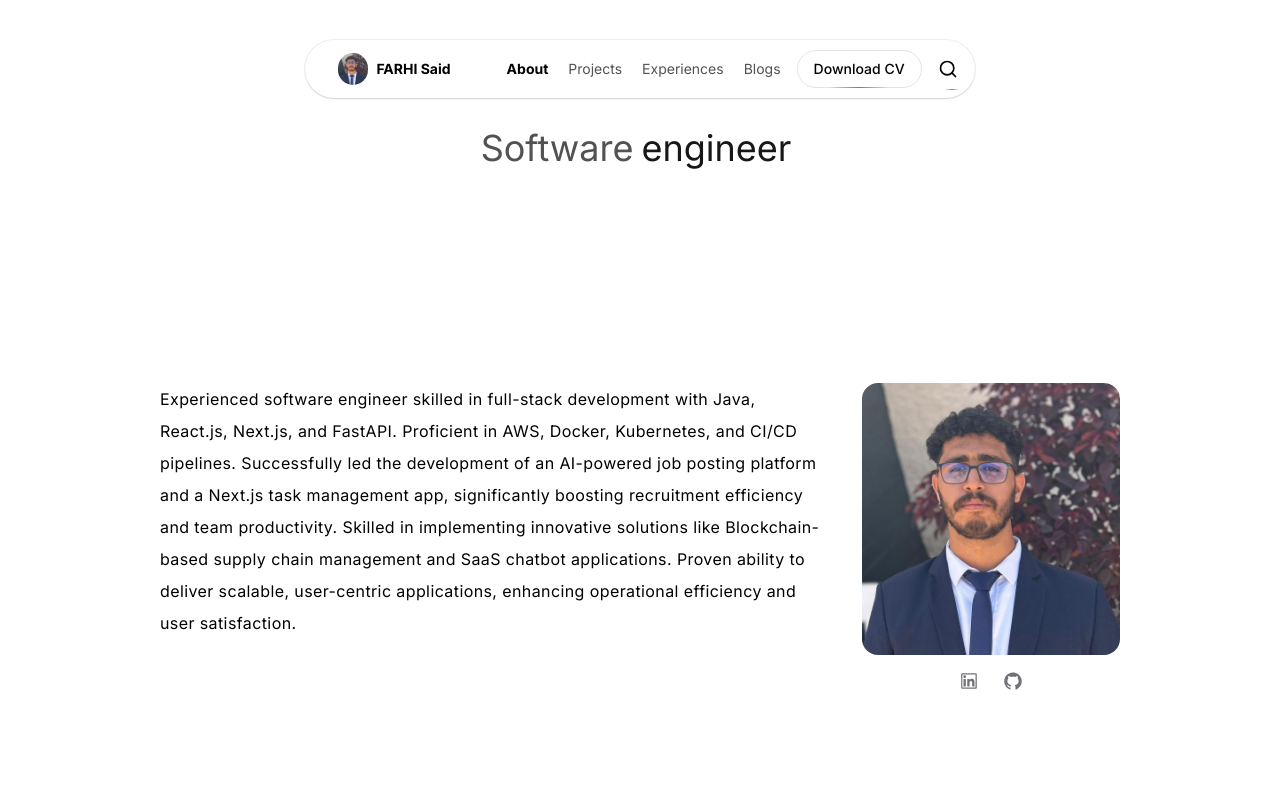
Scenario: FloatingNav Component › should navigate to the Projects page when clicking on the Projects link
This screenshot has width=1280, height=800.
Click the link "Projects" at (593,69), box [564, 59, 622, 79]
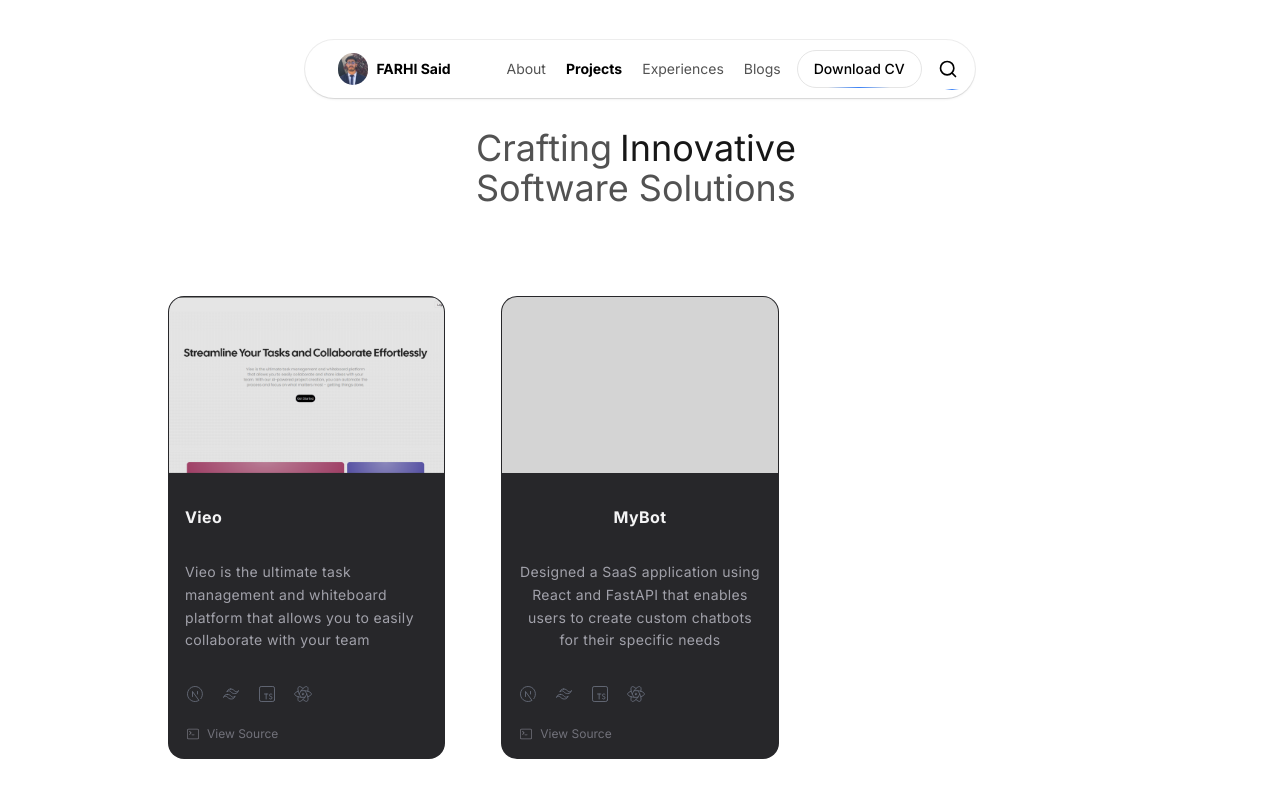
expect the text "Software Solutions" is shown: met, box [476, 166, 796, 210]
